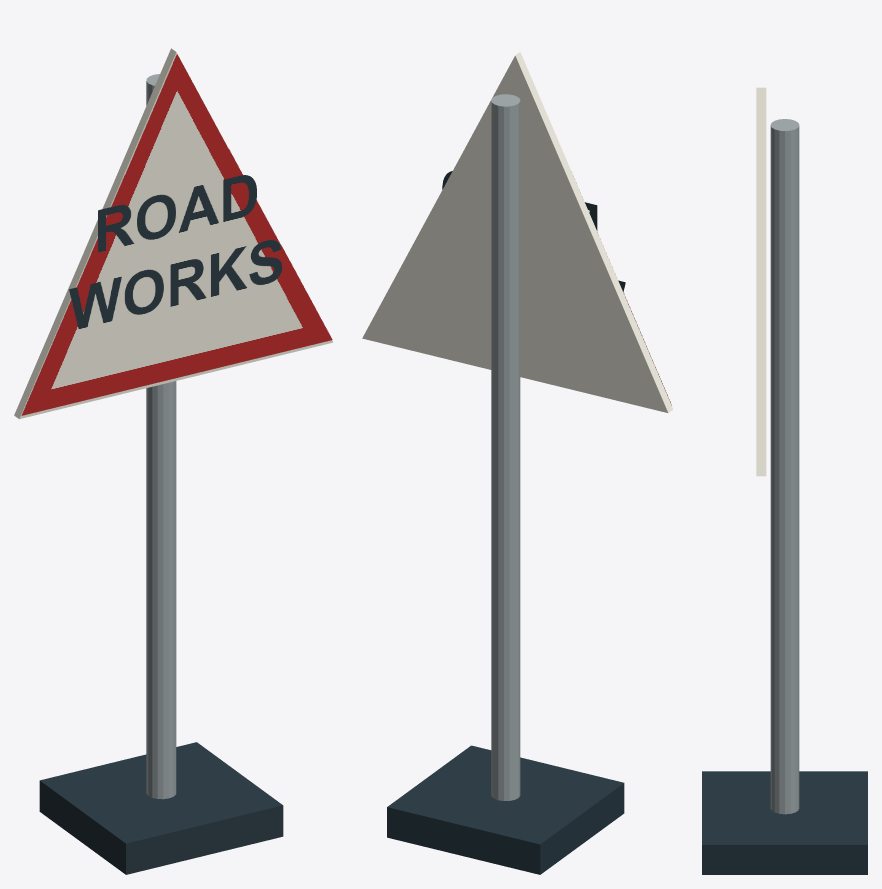
The model's file is scendance-plan-roadworks.glb.
3 renders of one model, left to right at view 1: azimuth 30°, elevation 25°; view 2: azimuth 150°, elevation 25°; view 3: azimuth 270°, elevation 25°, orthographic. The views are drawn at different scales.
Size of the model in its own units: 0.84 by 2 by 0.4.
4 materials, 1 textured.
